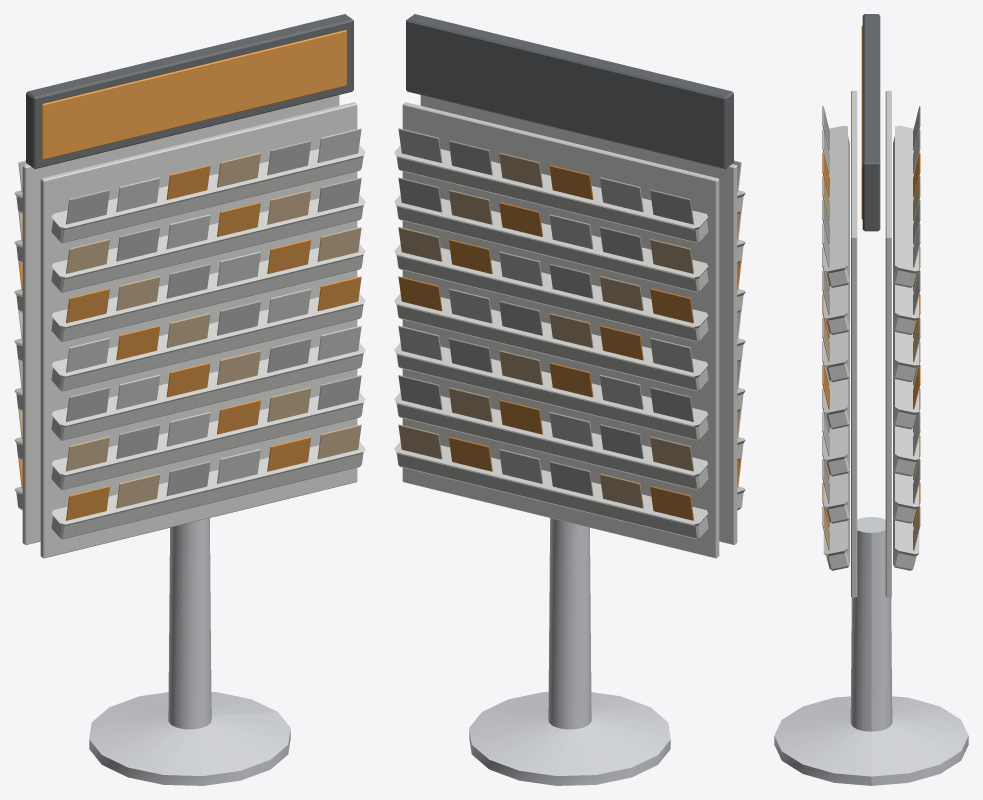
File: paint-colour-chart-stand.glb
The picture shows the model from 3 angles, left to right: view 1: azimuth 30°, elevation 25°; view 2: azimuth 150°, elevation 25°; view 3: azimuth 270°, elevation 25°; orthographic projection. The views are drawn at different scales.
Visible parts, largest first — view 1: paint-colour-chart-stand; view 2: paint-colour-chart-stand; view 3: paint-colour-chart-stand.
Boxes of the visible parts, left/top/right/bottom form: paint-colour-chart-stand: left=14, top=14, right=365, bottom=785; paint-colour-chart-stand: left=394, top=14, right=745, bottom=785; paint-colour-chart-stand: left=774, top=14, right=968, bottom=785.
Bounding box in the file's own units: 1.02 × 2.09 × 0.56.
